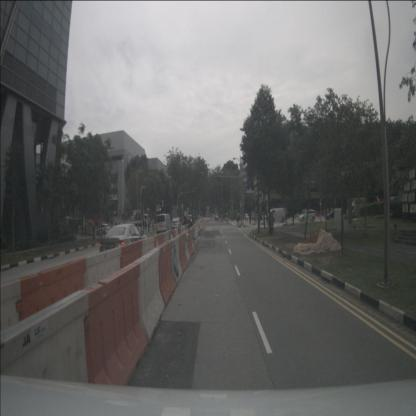human-pedestrian-adult: (236, 211, 240, 227), (284, 211, 288, 226), (152, 217, 155, 233), (144, 219, 147, 233), (142, 219, 145, 232), (148, 218, 150, 234)
movable_object-barrier: (0, 290, 98, 416), (82, 262, 148, 416), (15, 257, 90, 365), (134, 247, 166, 344), (83, 246, 125, 315), (1, 278, 23, 395), (157, 240, 177, 308), (120, 240, 145, 286), (170, 235, 183, 286), (141, 236, 157, 270), (178, 232, 188, 275), (187, 228, 195, 258), (184, 230, 191, 263), (154, 233, 164, 255), (162, 231, 170, 254), (168, 229, 176, 251), (192, 226, 196, 249)
vehicle-car: (99, 224, 149, 268), (156, 214, 172, 235), (265, 208, 287, 223), (298, 209, 316, 222), (326, 209, 344, 220), (182, 215, 195, 230), (96, 224, 111, 235), (171, 217, 183, 230)
vehicle-truck: (347, 197, 368, 219), (63, 216, 87, 233), (130, 213, 150, 228)
